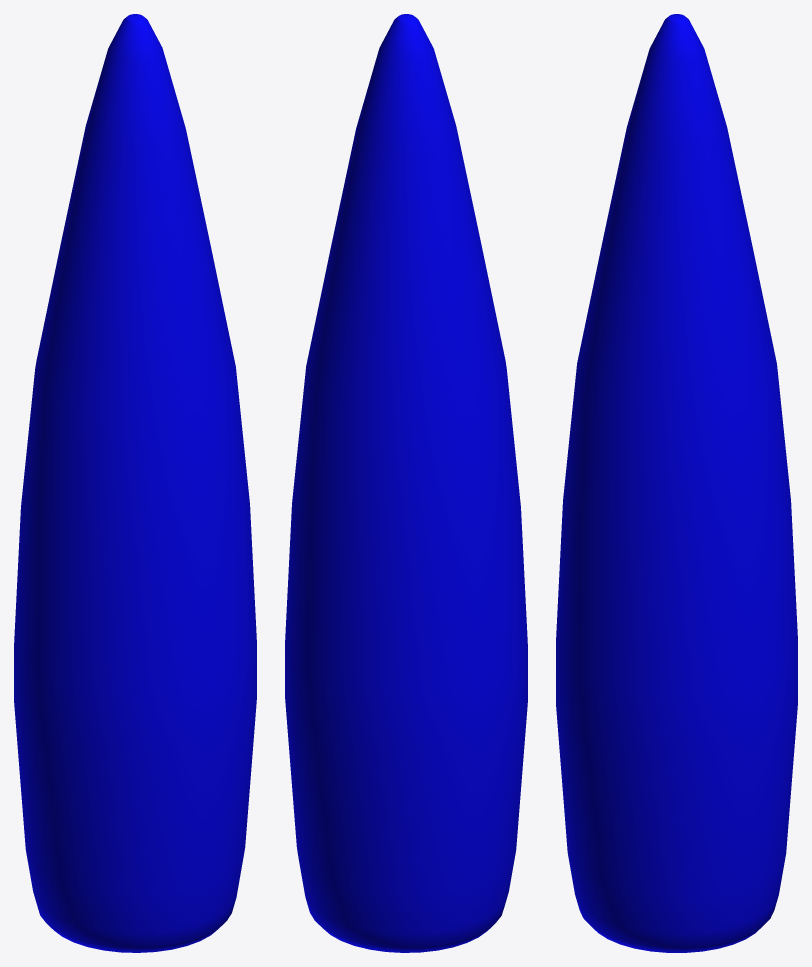
The picture shows the model from 3 angles, left to right: view 1: azimuth 30°, elevation 25°; view 2: azimuth 150°, elevation 25°; view 3: azimuth 270°, elevation 25°; orthographic projection.
Parts seen in each view (by area): view 1: 7.62_new; view 2: 7.62_new; view 3: 7.62_new.
Part boxes in pixels (bbox=[...]): 7.62_new: bbox=[14, 14, 256, 952]; 7.62_new: bbox=[285, 14, 527, 952]; 7.62_new: bbox=[556, 14, 797, 952].
Bounding box in the file's own units: 0.101 × 0.4142 × 0.101.
